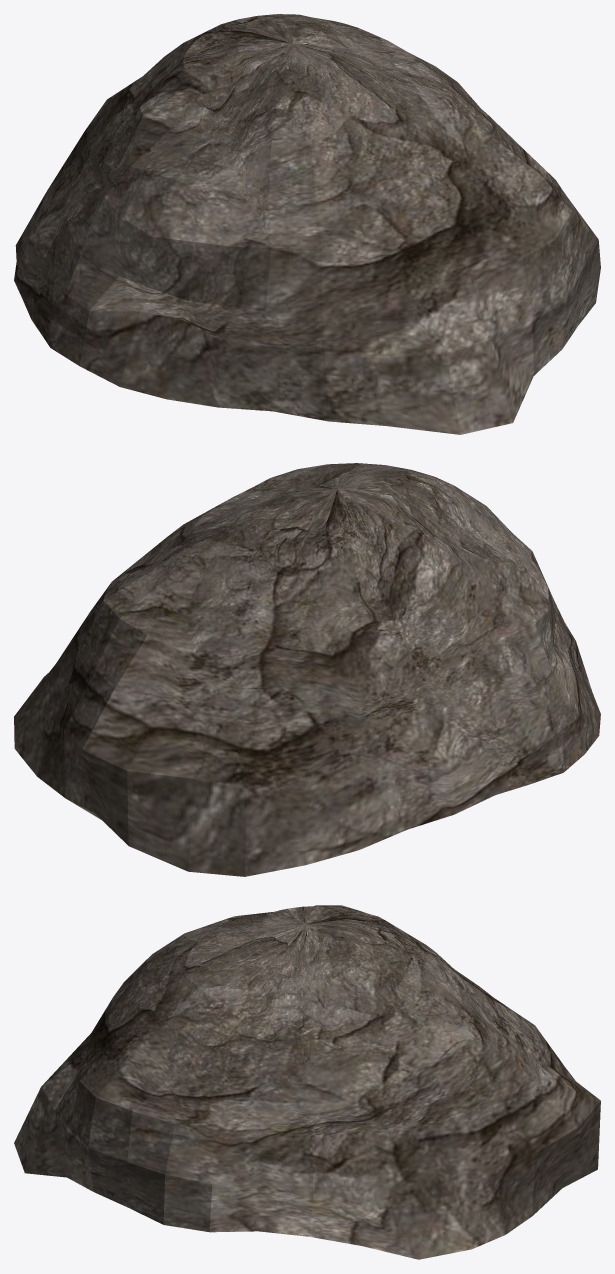
The model's file is Rock toy.fbx.
3 views of the same model, one above another, from view 1: azimuth 30°, elevation 25°; view 2: azimuth 150°, elevation 25°; view 3: azimuth 270°, elevation 25° (orthographic). The views are drawn at different scales.
Parts seen in each view (by area): view 1: Sphere; view 2: Sphere; view 3: Sphere.
Boxes of the visible parts, x1,y1,x2,y2 form: Sphere: (14,14,600,434); Sphere: (14,463,600,876); Sphere: (14,905,600,1259).
Bounding box in the file's own units: 660 × 337 × 763.
